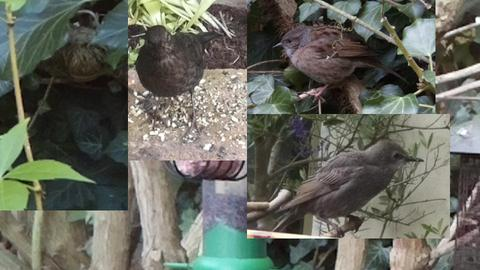blackbird: (134, 25, 222, 136)
dunnock: (272, 25, 410, 103)
starling: (272, 139, 425, 238)
